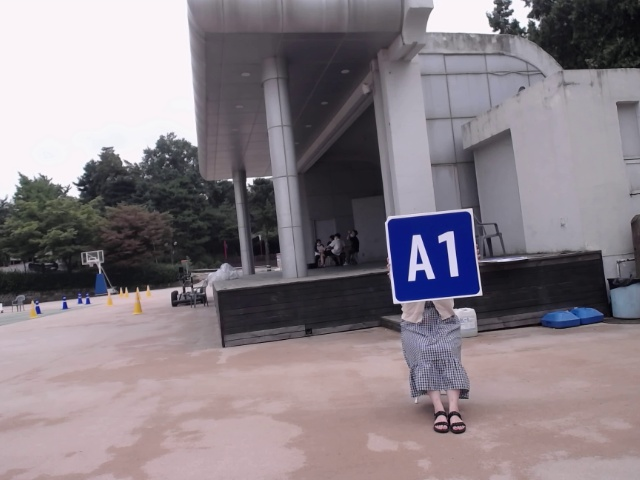delivery_a1: (386, 210, 482, 303)
